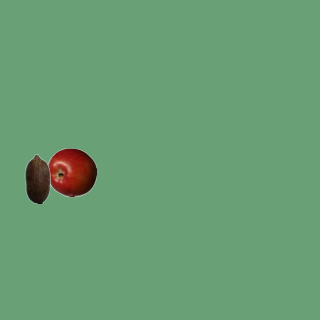Apple Braeburn: (46, 147, 96, 197)
Nut Pecan: (12, 153, 62, 203)
